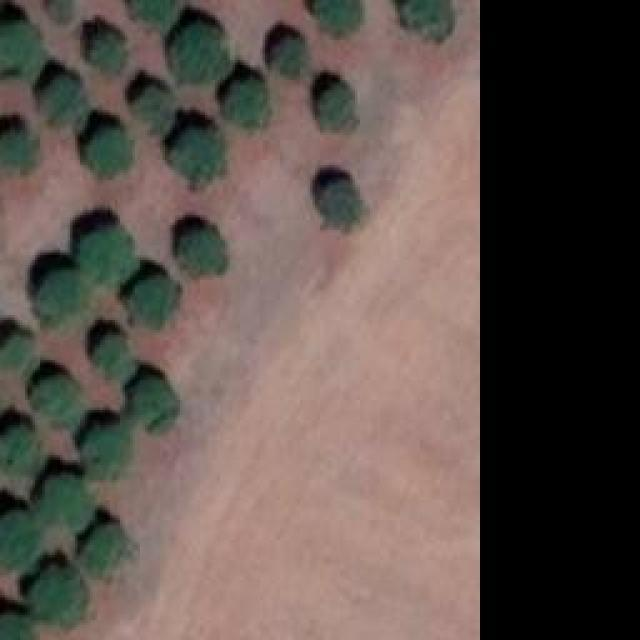Tree: (167, 128, 225, 188), (173, 22, 233, 80), (30, 367, 85, 425), (78, 525, 131, 585), (77, 420, 135, 473), (35, 475, 90, 530), (73, 223, 126, 276), (80, 123, 130, 178), (125, 270, 175, 325), (33, 568, 83, 621), (173, 225, 223, 278), (228, 78, 273, 131), (398, 0, 458, 38), (0, 419, 42, 472), (0, 19, 42, 72), (0, 512, 38, 570), (305, 0, 363, 38), (133, 370, 173, 425), (0, 125, 45, 173), (40, 75, 85, 123), (38, 265, 81, 315), (318, 180, 361, 230), (318, 83, 361, 133), (90, 30, 135, 73), (93, 325, 133, 370), (0, 328, 35, 373), (133, 87, 173, 125), (268, 33, 303, 68), (0, 612, 35, 640)
